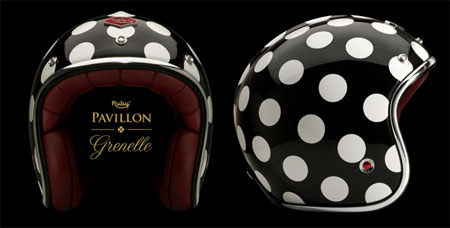with_helmet: (228, 13, 438, 211), (31, 9, 212, 208)
